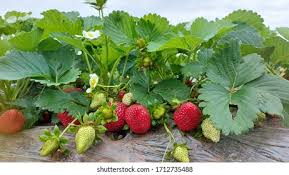ripe: (56, 86, 87, 128), (123, 102, 154, 133), (172, 102, 204, 131), (102, 99, 128, 133), (2, 107, 25, 137)
unripe: (74, 124, 95, 154), (200, 116, 221, 143), (39, 132, 62, 155), (171, 144, 192, 164), (87, 91, 106, 108)
